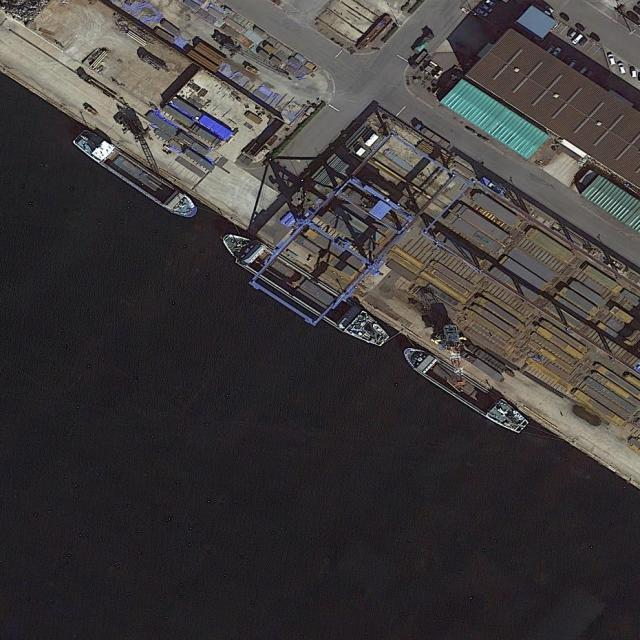Container Ship: (215, 223, 395, 356), (69, 122, 205, 226), (396, 341, 532, 438)
